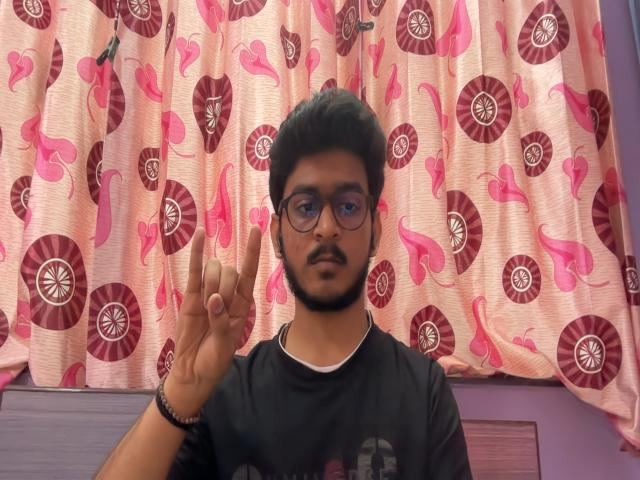I Love You: (175, 214, 269, 396)
